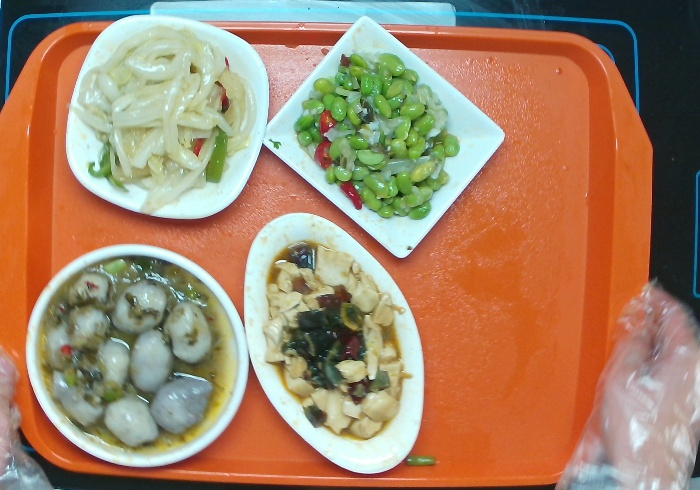HZYJPL-Si_Fang_Die: (261, 15, 507, 263)
HZYJPL-Si_Fang_Yuan_Die: (58, 10, 279, 226)
HZYJPL-Xiao_Yu_Die: (238, 208, 436, 483)
HZYJPL-Xiao_Yuan_Die: (7, 237, 255, 480)
